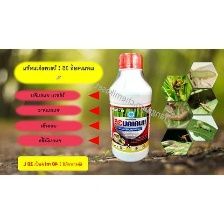insecticide: (106, 50, 153, 165)
